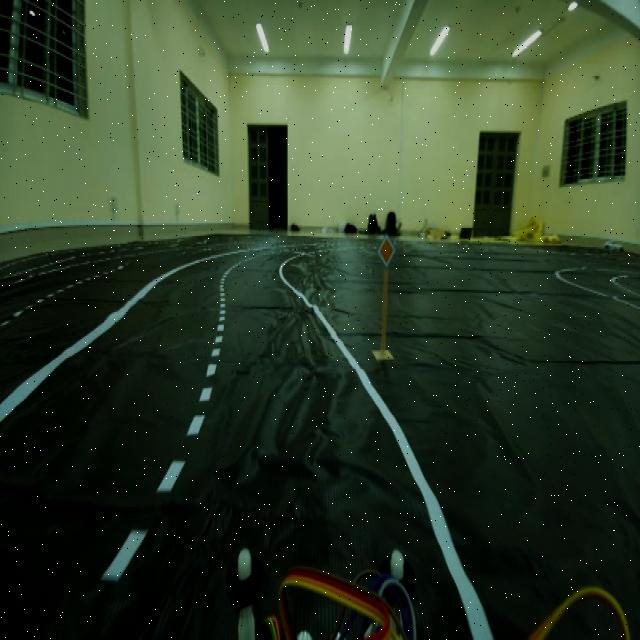priority: (375, 227, 399, 274)
